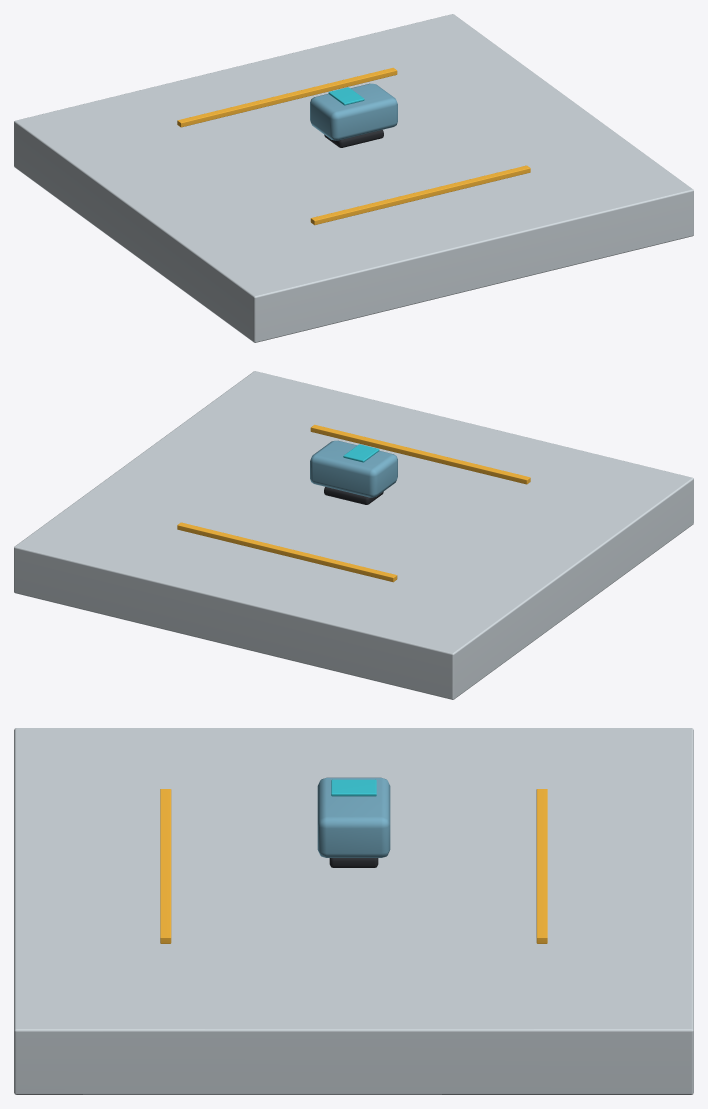
3 views of the same model, one above another, from view 1: azimuth 30°, elevation 25°; view 2: azimuth 150°, elevation 25°; view 3: azimuth 270°, elevation 25° (orthographic). The views are drawn at different scales.
Visible parts, largest first — view 1: Ground plane, Wearable scanner body, Concept clearance guide.001, Concept clearance guide; view 2: Ground plane, Wearable scanner body, Concept clearance guide, Concept clearance guide.001; view 3: Ground plane, Wearable scanner body, Concept clearance guide, Concept clearance guide.001, Status display.
Boxes of the visible parts, x1,y1,x2,y2 form: Ground plane: (14,14,693,342); Wearable scanner body: (310,83,397,140); Concept clearance guide.001: (177,67,397,127); Concept clearance guide: (310,165,530,225); Ground plane: (14,371,693,699); Wearable scanner body: (310,440,397,497); Concept clearance guide: (310,424,530,484); Concept clearance guide.001: (177,522,397,582); Ground plane: (14,728,693,1094); Wearable scanner body: (317,777,390,857); Concept clearance guide: (160,789,171,943); Concept clearance guide.001: (536,789,547,943); Status display: (331,779,376,796).
Size of the model in its own units: 1.18 by 0.278 by 1.12.
